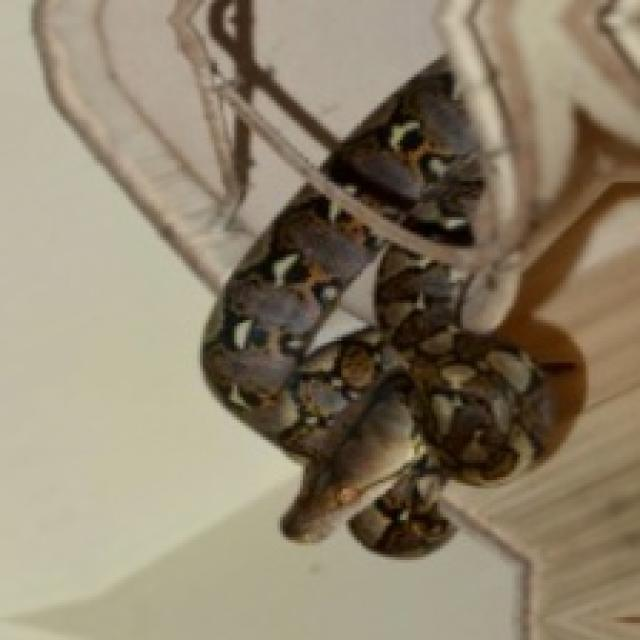reticulated python: (203, 186, 549, 554), (320, 57, 480, 246)
